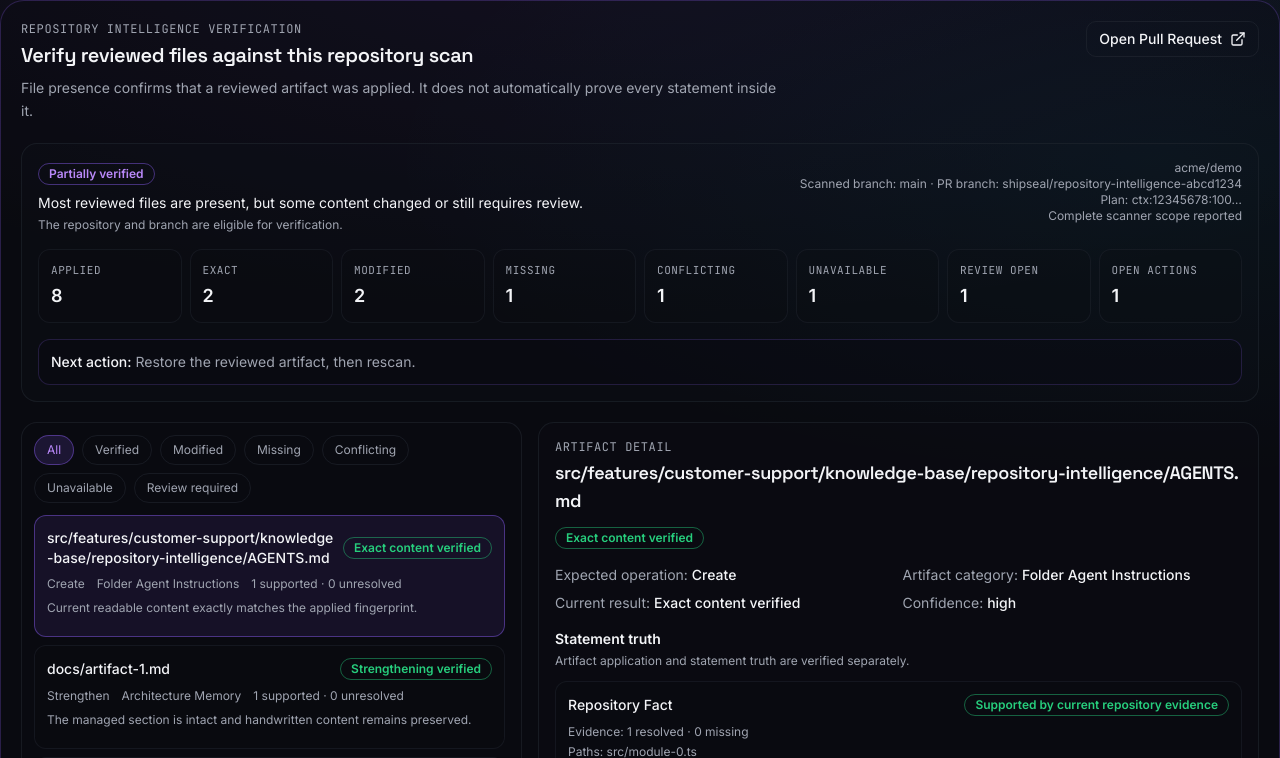
Repository Intelligence verification experience › presents safe handwritten additions separately from the managed section
Step 1. Click the text "docs/artifact-1.md" → (108, 668), box [47,660,170,677]
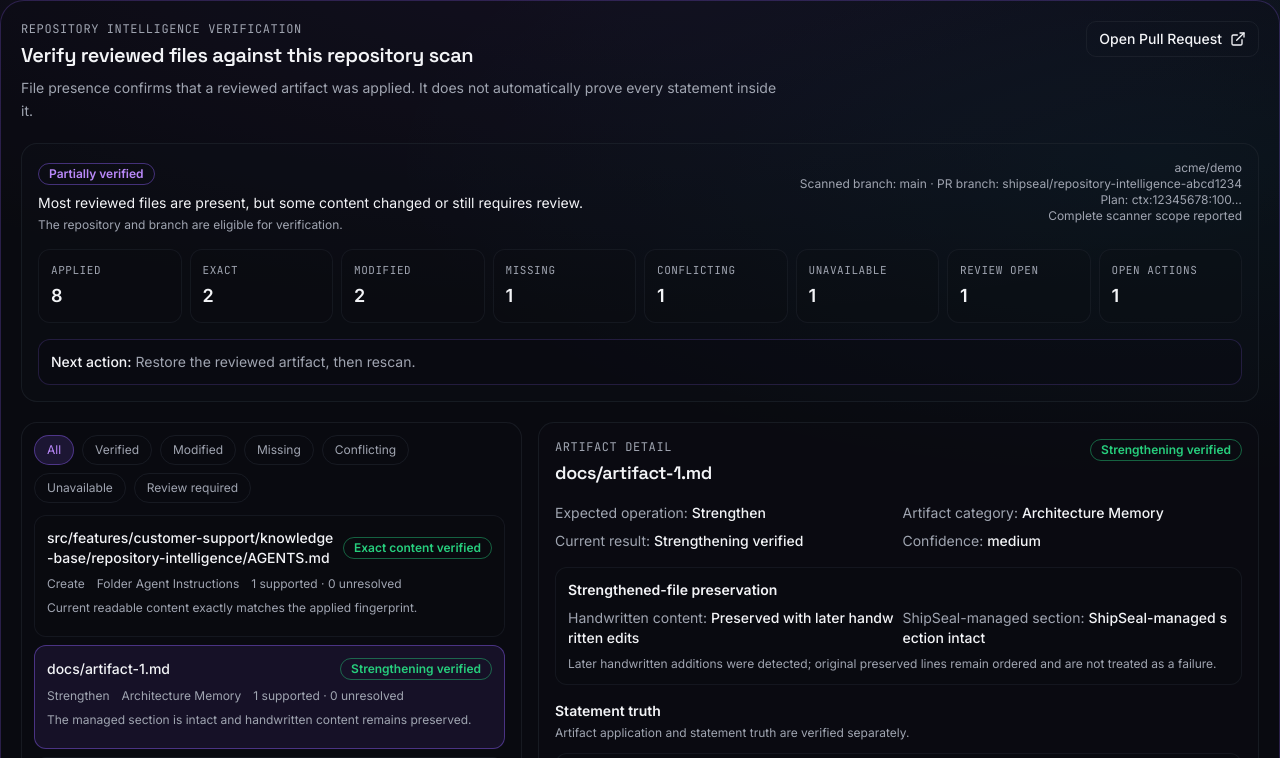
Expected: the text "Preserved with later handwritten edits" is shown, [568,609,894,646]
Expected: the text "ShipSeal-managed section intact" is shown, [902,609,1227,646]
Expected: the text "not treated as a failure" is shown, [568,656,1217,671]
